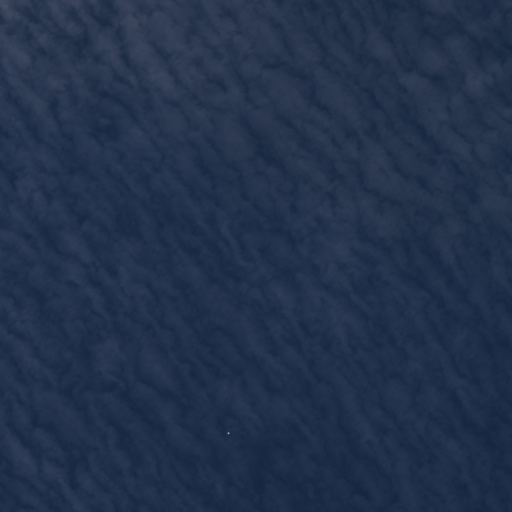Iceberg: (227, 432, 229, 434)
